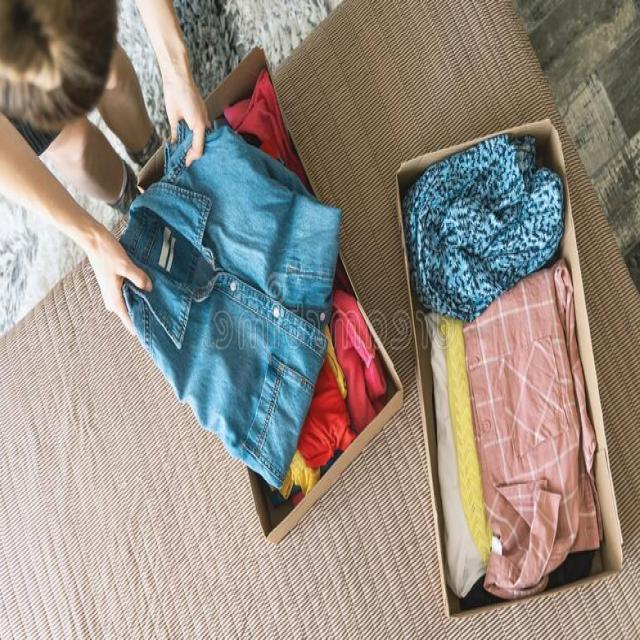clothes: (436, 130, 560, 595)
